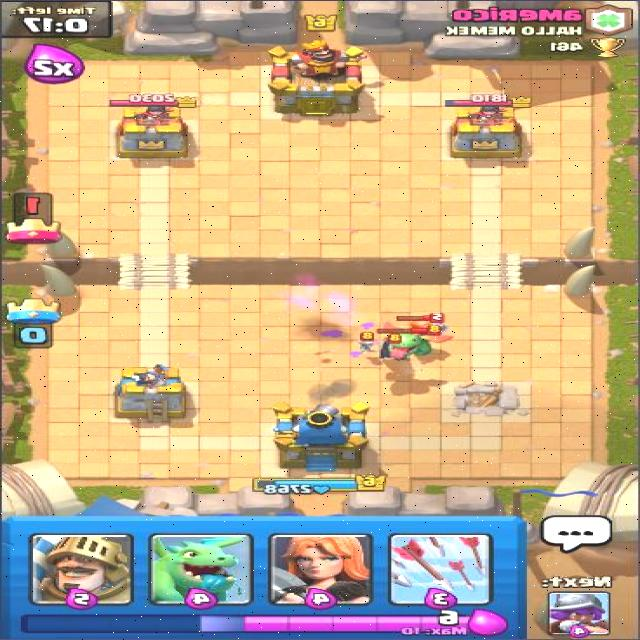Enemy-BabyDragon: (372, 324, 454, 362)
Enemy-Skeleton: (353, 330, 377, 354), (381, 333, 403, 355)
Enemy-Valkyrie: (393, 311, 445, 348)
